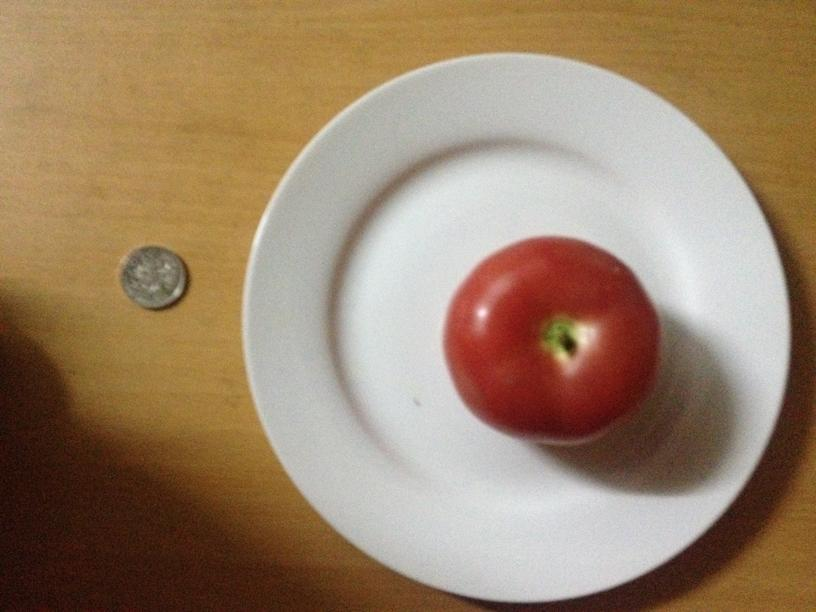coin: (119, 242, 187, 307)
tomato: (439, 233, 652, 448)
